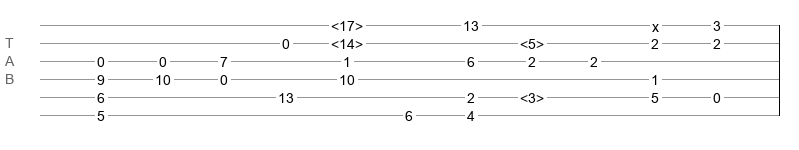0: (97, 54, 105, 64), (159, 54, 167, 64), (220, 72, 228, 82), (282, 36, 290, 46), (713, 90, 721, 100)
1: (343, 54, 351, 64), (651, 72, 659, 82)
10: (155, 72, 171, 82), (339, 72, 355, 82)
13: (278, 90, 294, 100), (463, 18, 479, 28)
2: (467, 90, 475, 100), (528, 54, 536, 64), (590, 54, 598, 64), (651, 36, 659, 46), (713, 36, 721, 46)
3: (713, 18, 721, 28)
4: (467, 108, 475, 118)
5: (97, 108, 105, 118), (651, 90, 659, 100)
6: (97, 90, 105, 100), (405, 108, 413, 118), (467, 54, 475, 64)
7: (220, 54, 228, 64)
9: (97, 72, 105, 82)
harmonic: (331, 36, 363, 46), (331, 18, 363, 28), (520, 36, 544, 46), (520, 90, 544, 100)
x: (652, 19, 659, 27)
